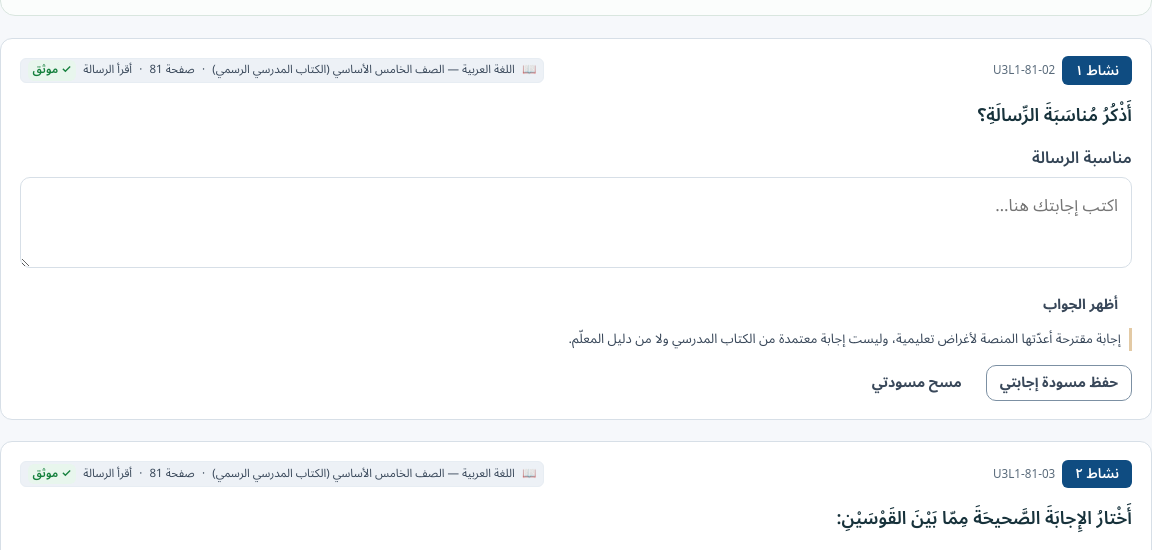
Test: U3L1 — teacher-only material can never reach the student surface › the real lesson reveals under «إرشادات للإجابة» and never as an approved key
(page scrolled)
Click the button "أظهر الجواب" at [1080, 305], box [1029, 287, 1132, 323]
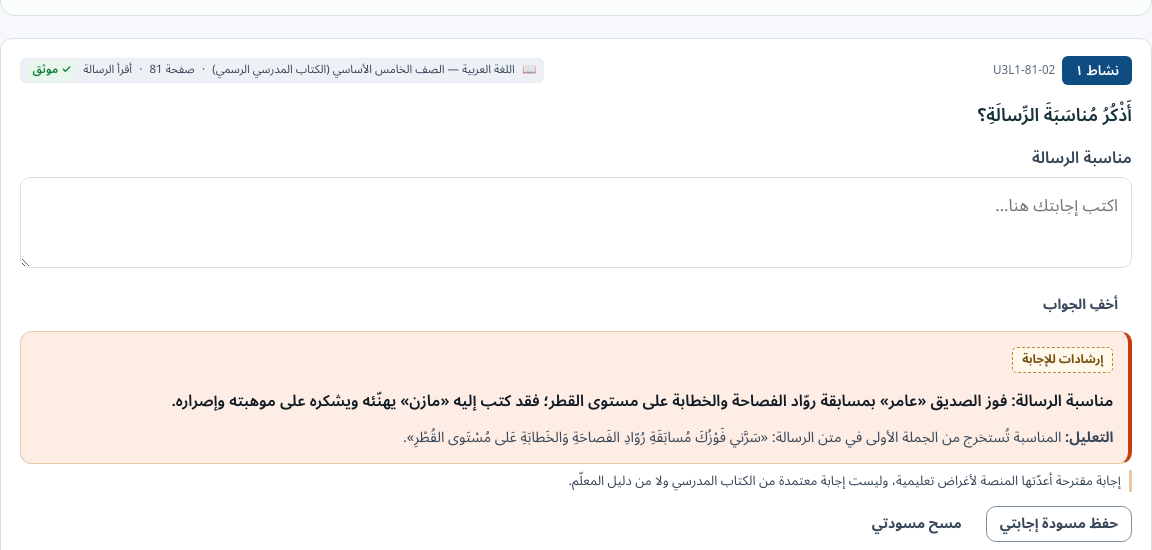
Now the text "إرشادات للإجابة" is shown, box [1012, 347, 1113, 373]
